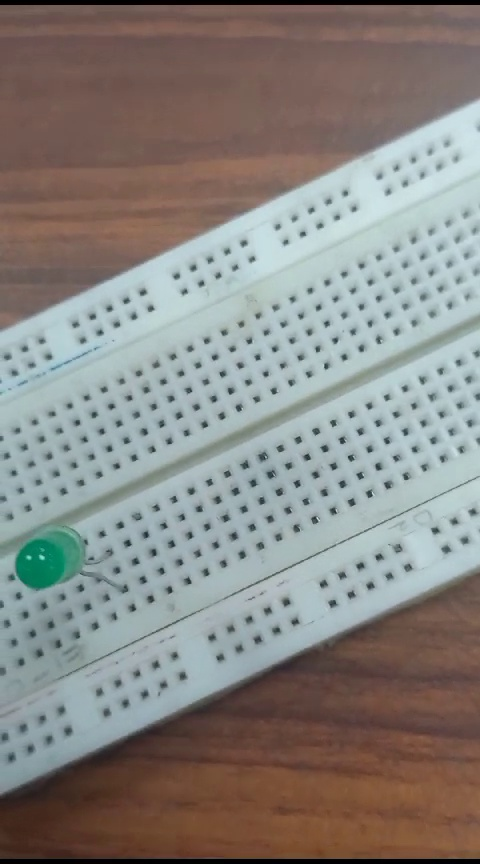LED: (15, 523, 111, 601)
